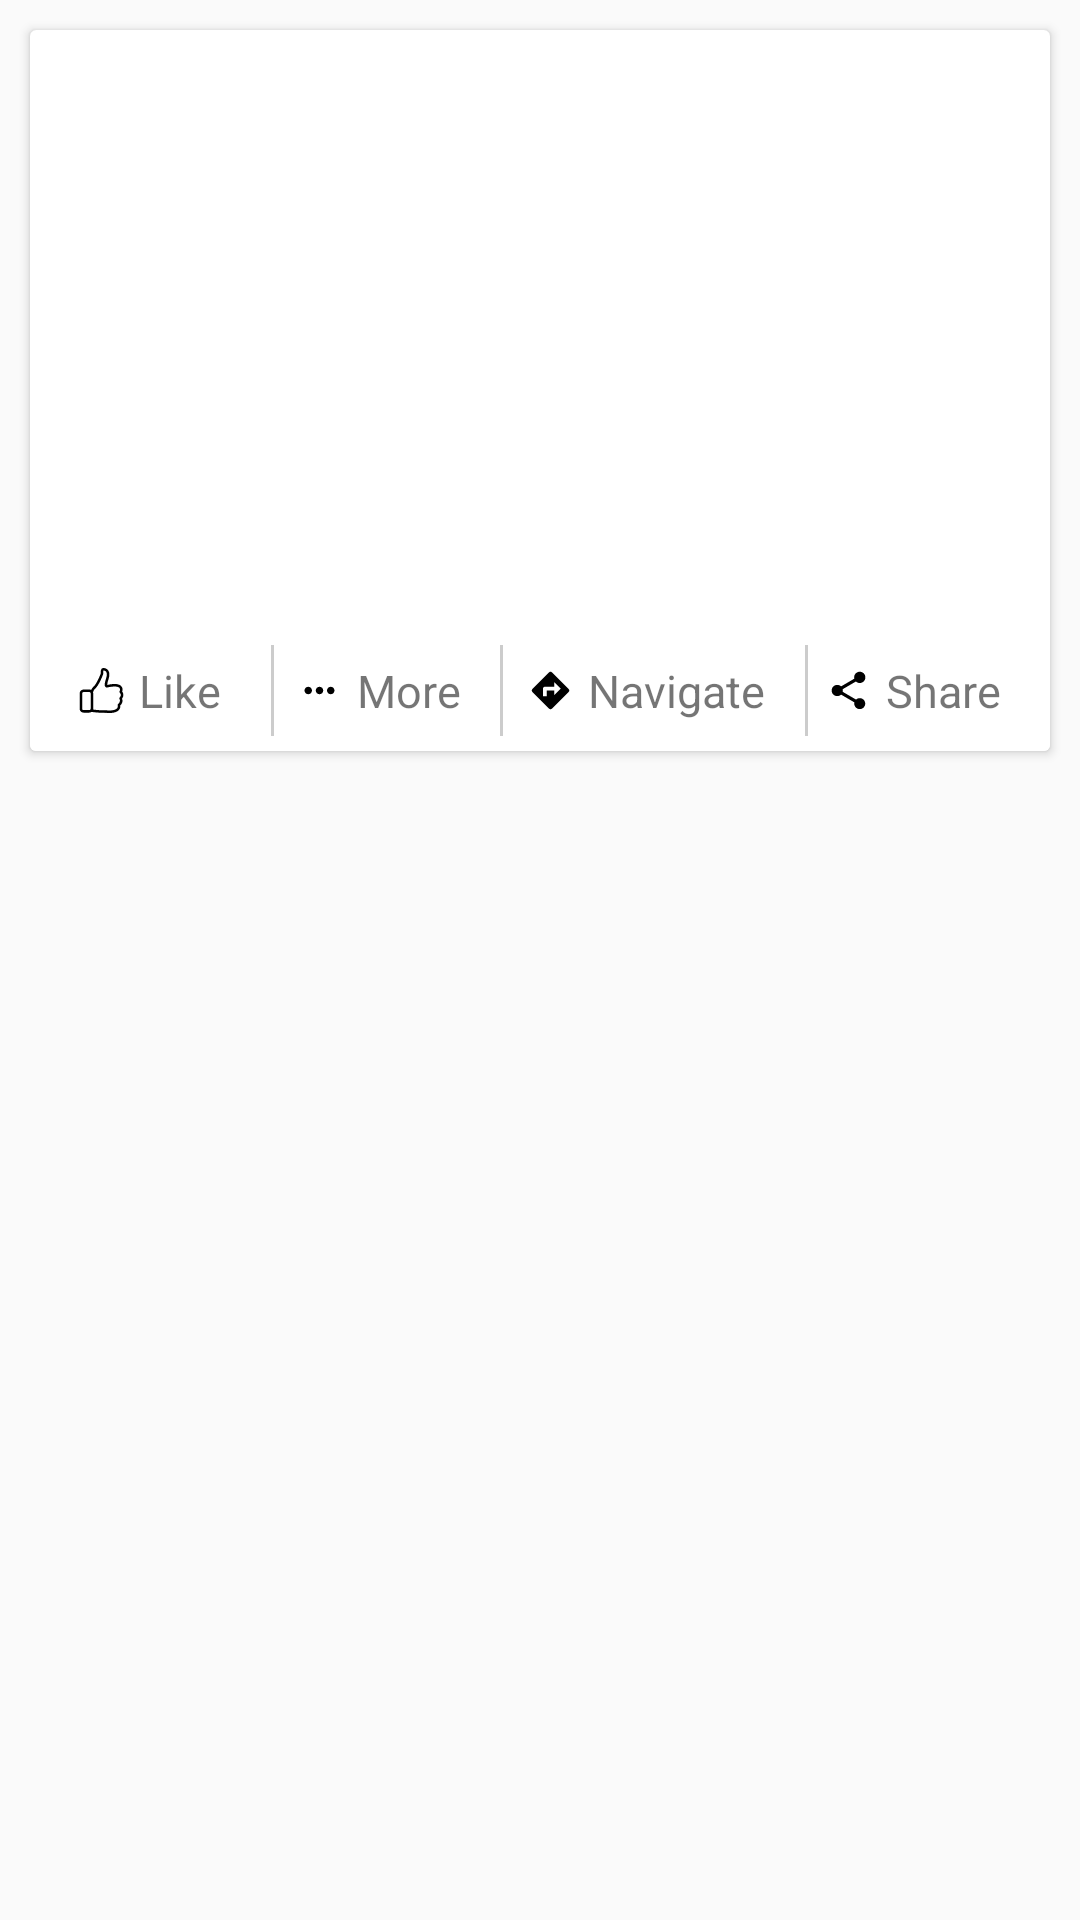

Icons on this 1080 x 1920 Android screen, each with the point to tap as (x,y):
directions: (550,690)
